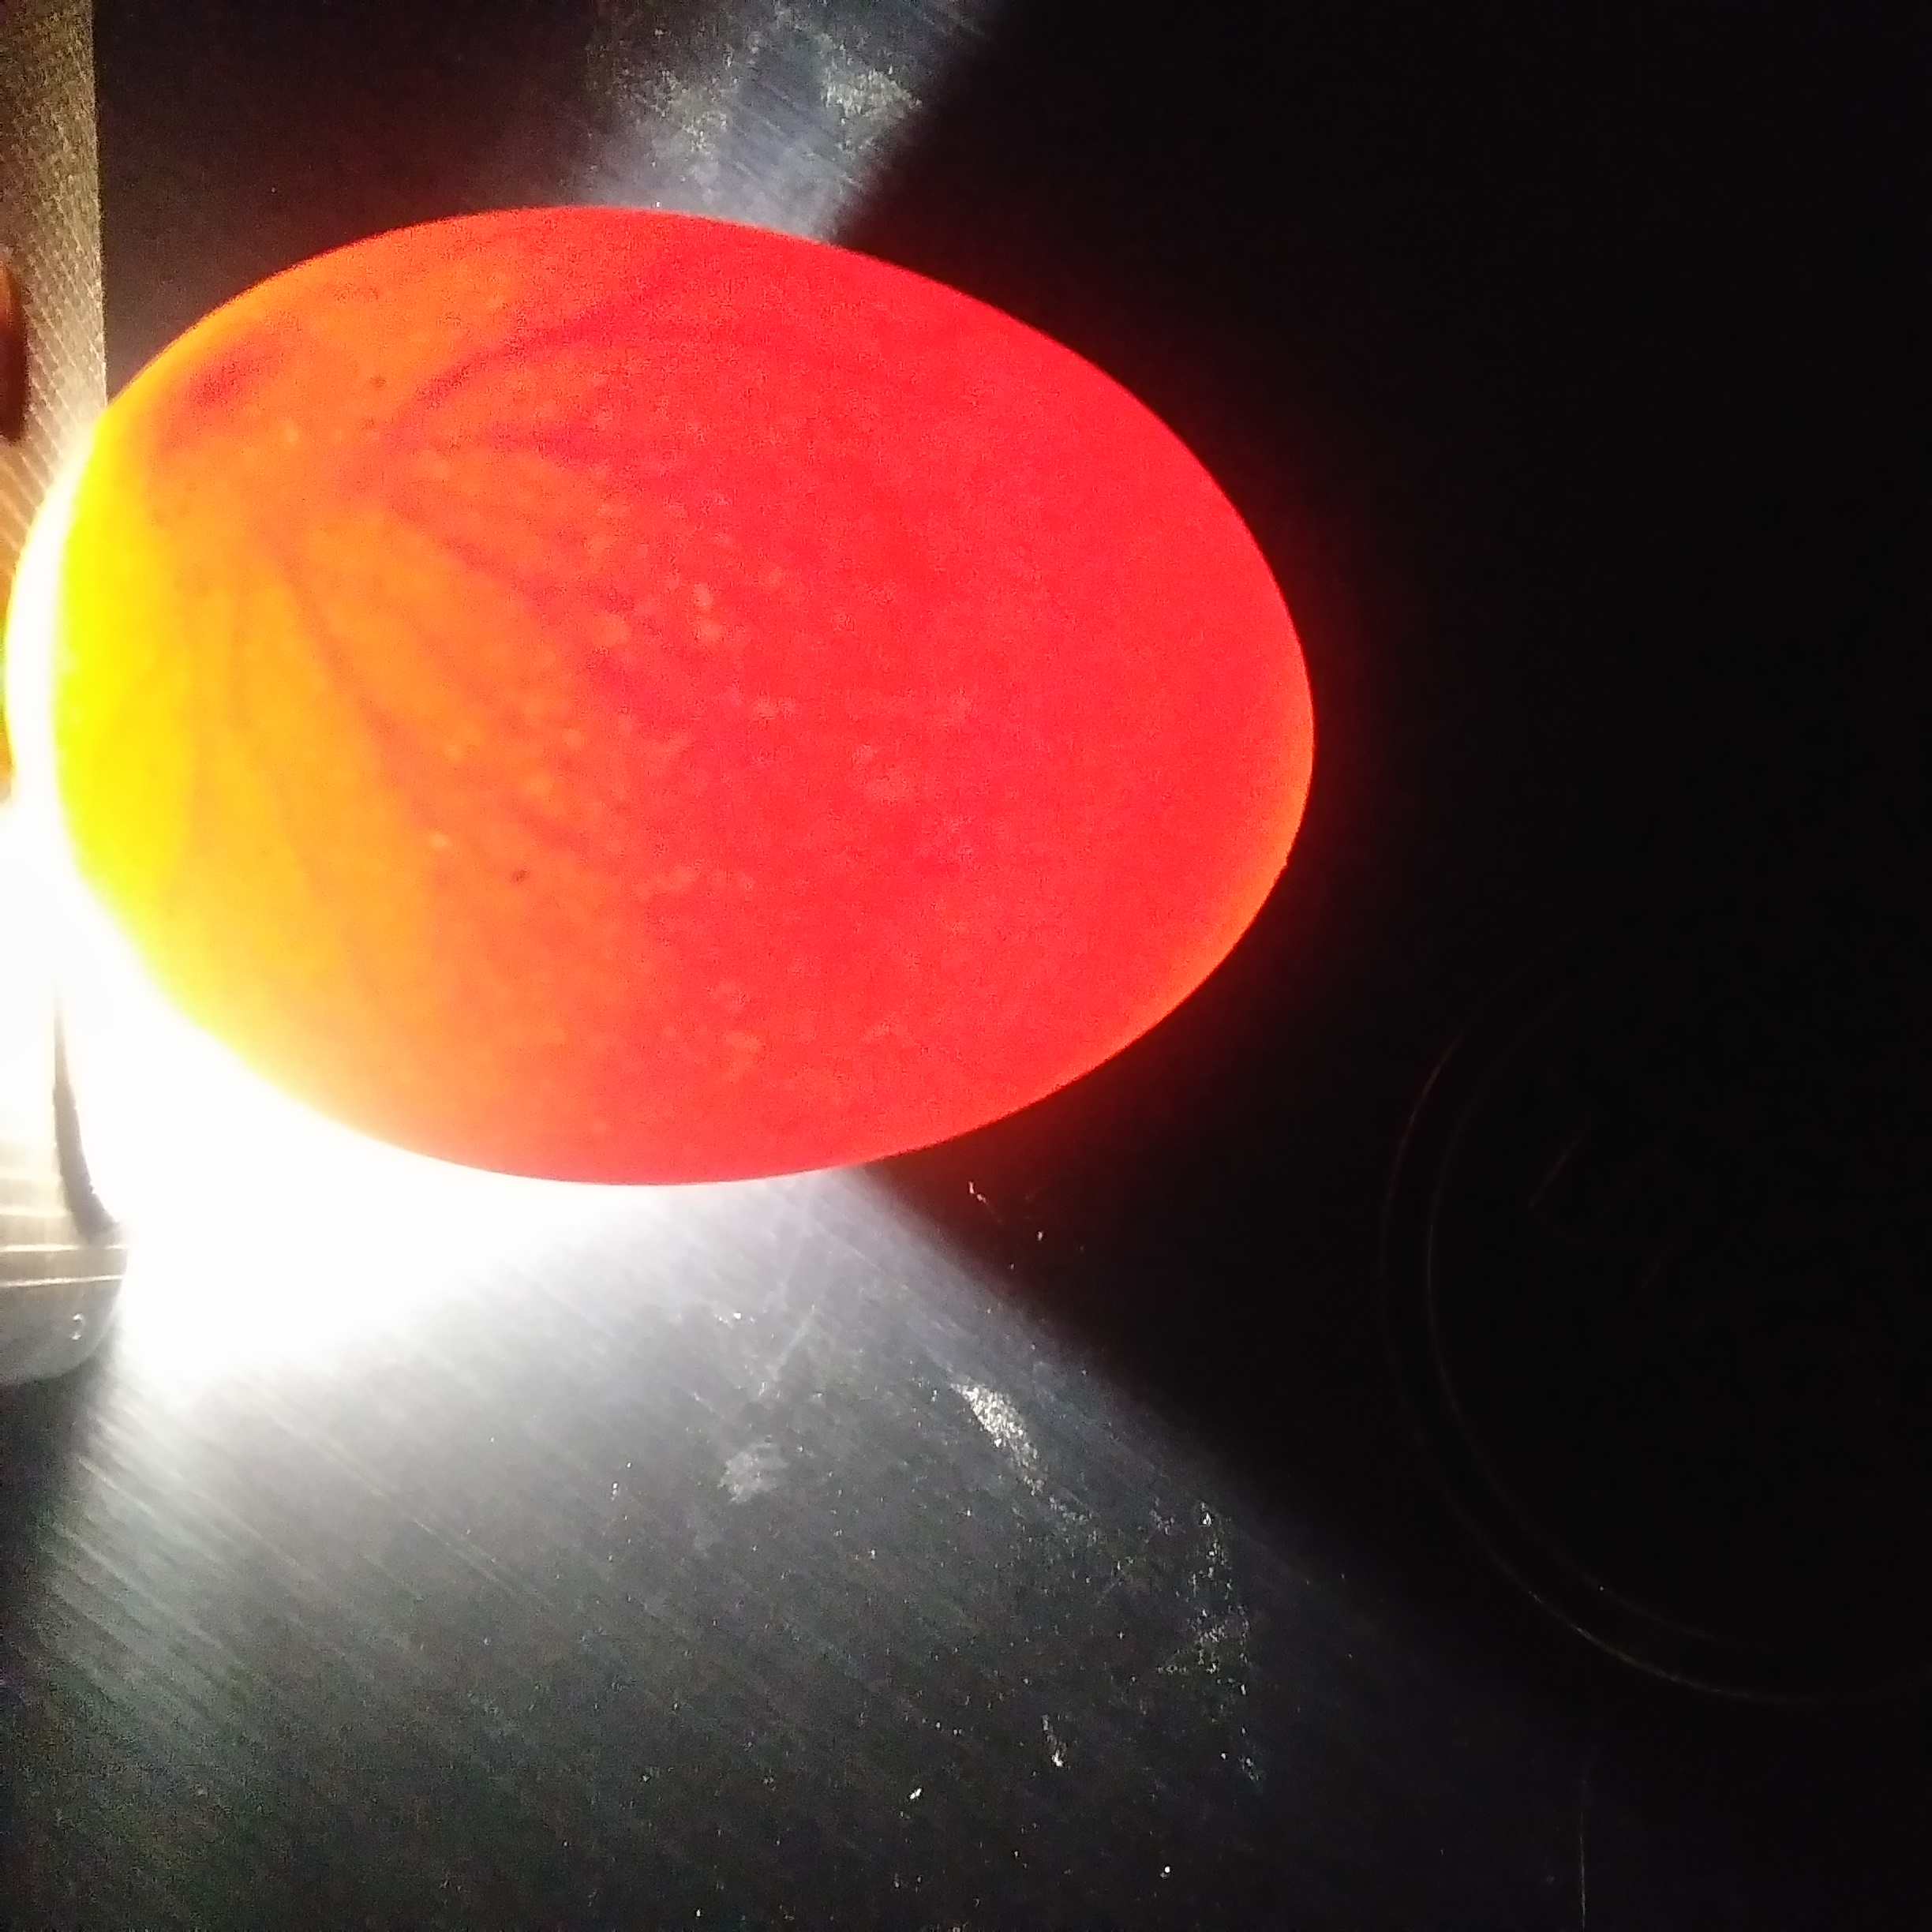bloodcell: (133, 564, 623, 939), (320, 347, 586, 541)
embryo: (157, 347, 278, 474)
